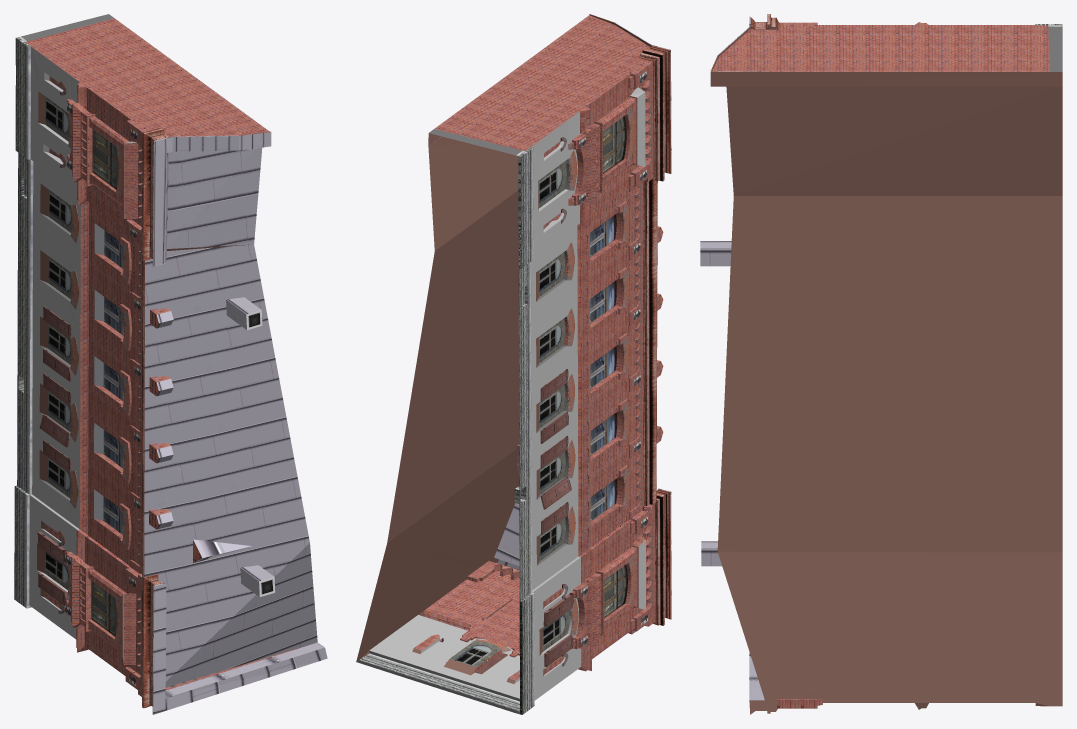
The model's file is Vene_30.obj.
The picture shows the model from 3 angles, left to right: view 1: azimuth 30°, elevation 25°; view 2: azimuth 150°, elevation 25°; view 3: azimuth 270°, elevation 25°; orthographic projection. The views are drawn at different scales.
Parts seen in each view (by area): view 1: polySurface31; view 2: polySurface31; view 3: polySurface31.
Boxes of the visible parts, x1=… form: polySurface31: x1=14, y1=14, x2=327, y2=714; polySurface31: x1=356, y1=14, x2=671, y2=714; polySurface31: x1=700, y1=14, x2=1062, y2=714.
Size of the model in its own units: 7.7 by 23.78 by 12.54.
